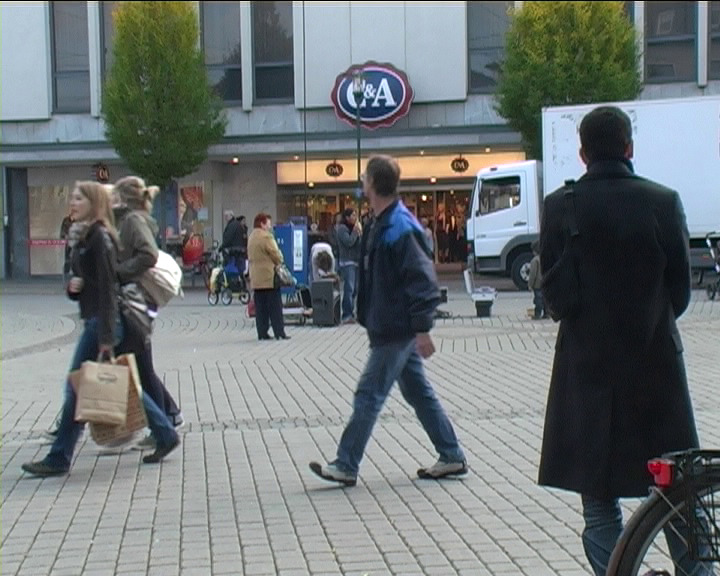deflection: (347, 150, 429, 278)
